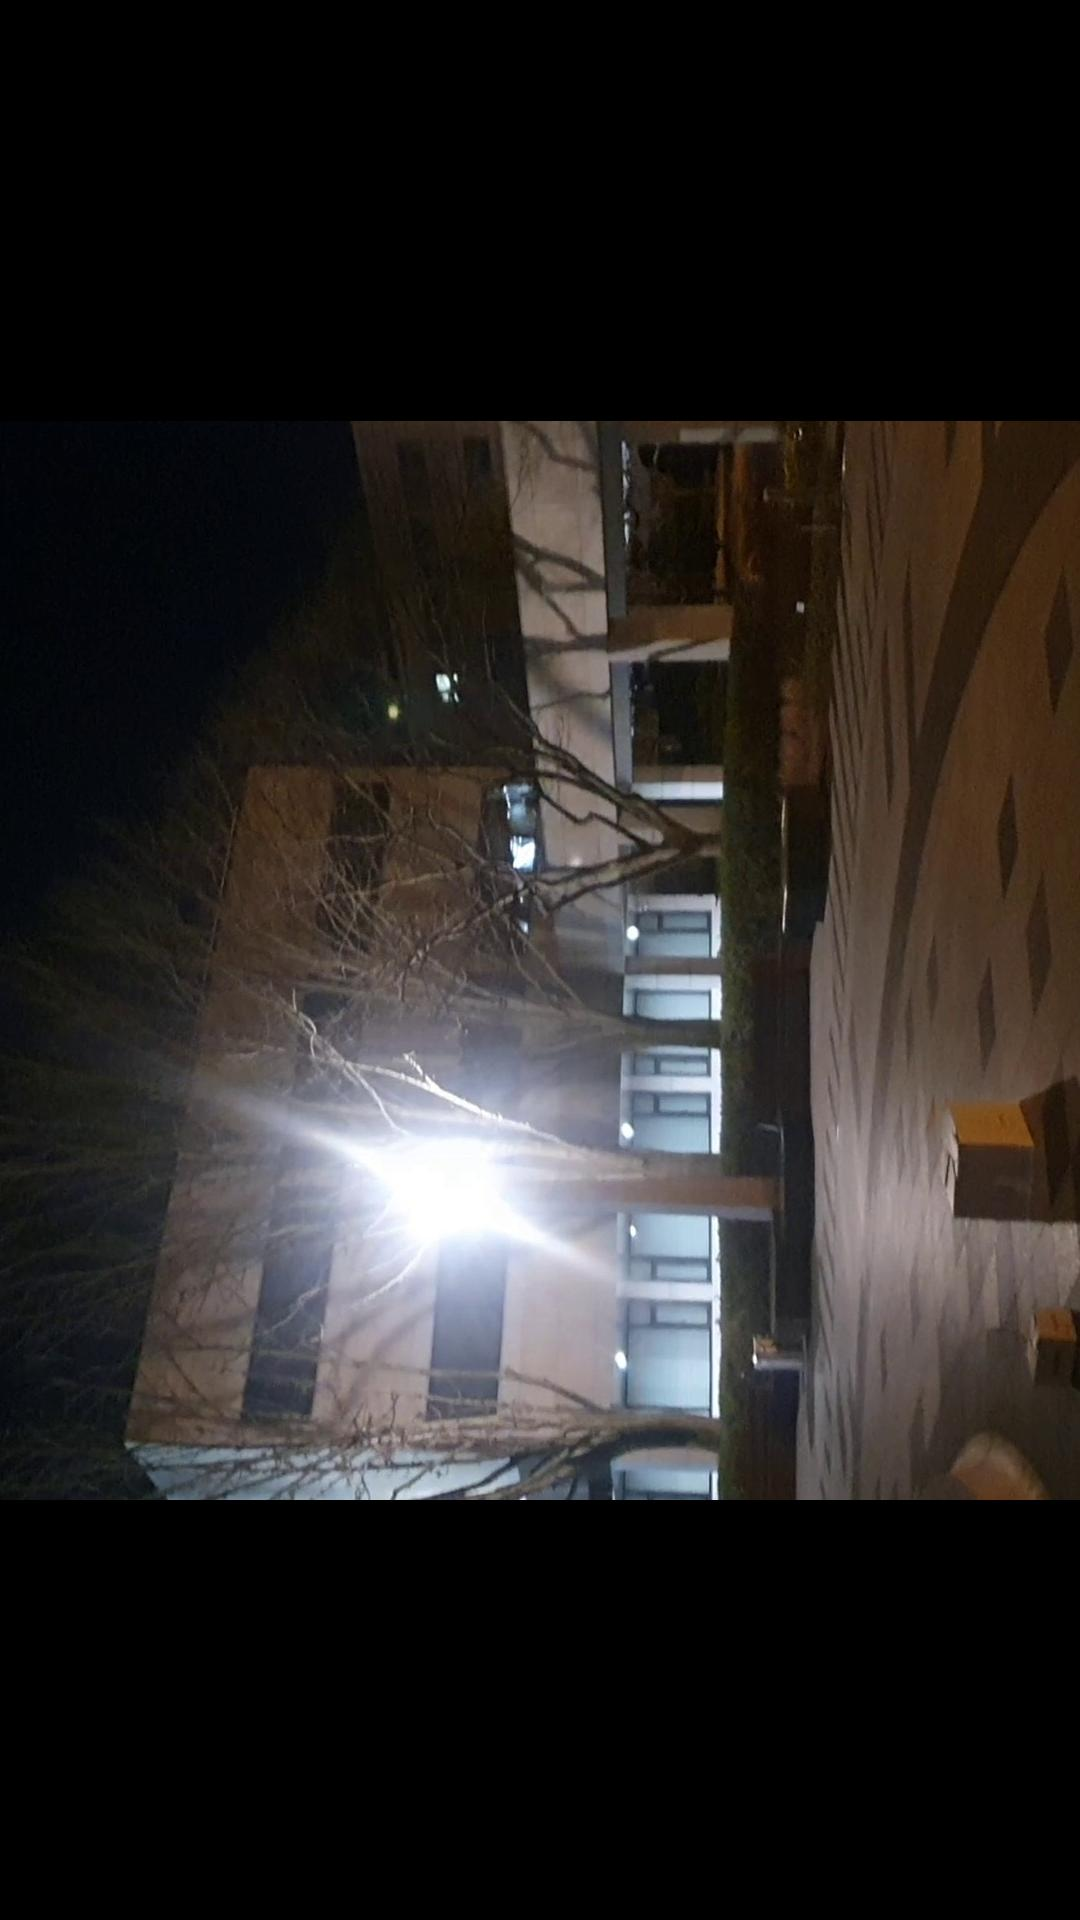Box: (930, 1092, 1062, 1224), (1023, 1315, 1077, 1387)
